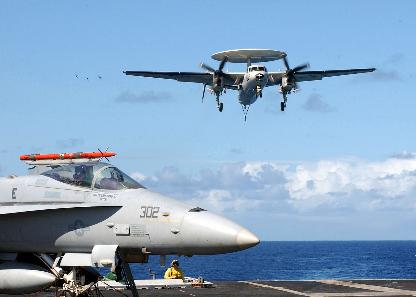C5: (122, 48, 376, 120)
F15: (0, 146, 260, 295), (74, 73, 78, 78), (85, 75, 89, 80), (98, 74, 102, 79)
